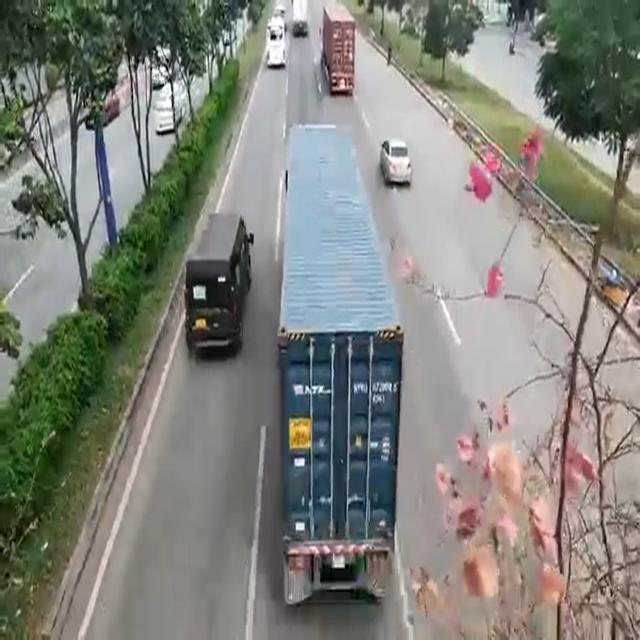bus: (192, 212, 242, 349), (267, 22, 284, 70)
car: (389, 131, 407, 181)
truck: (283, 121, 387, 605), (325, 7, 353, 91)
